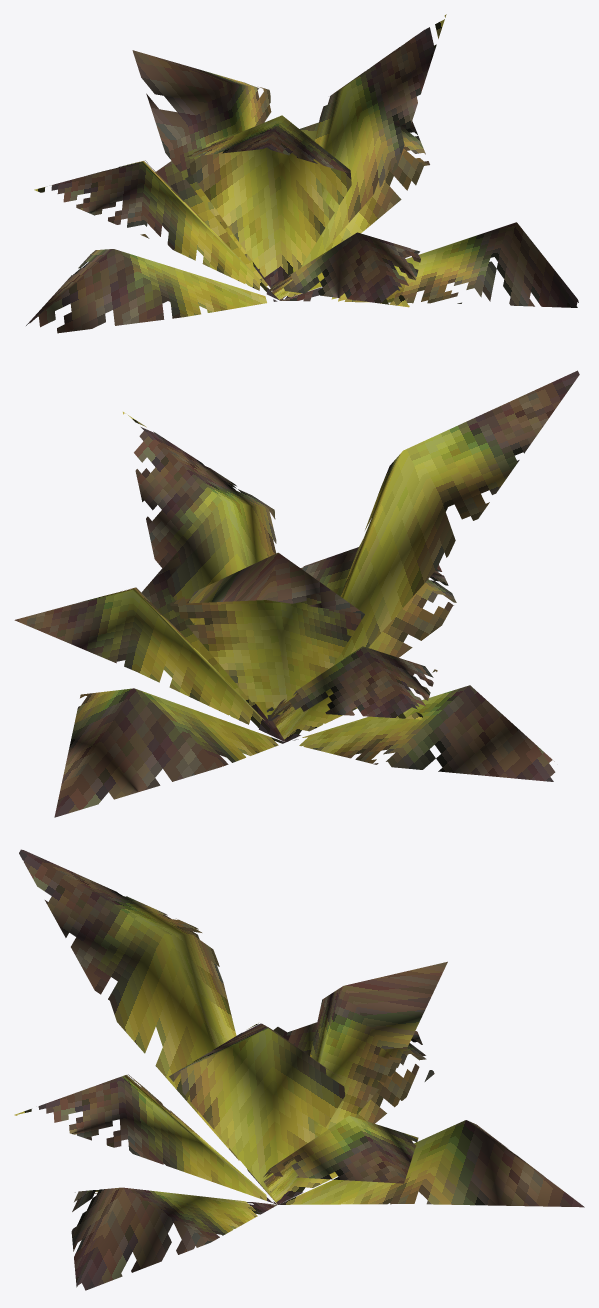
The model's file is Pplant11Z.obj.
3 views of the same model, one above another, from view 1: azimuth 30°, elevation 25°; view 2: azimuth 150°, elevation 25°; view 3: azimuth 270°, elevation 25° (orthographic). The views are drawn at different scales.
Bounding box in the file's own units: 3930 × 2230 × 4012.
1 material, 1 textured.
